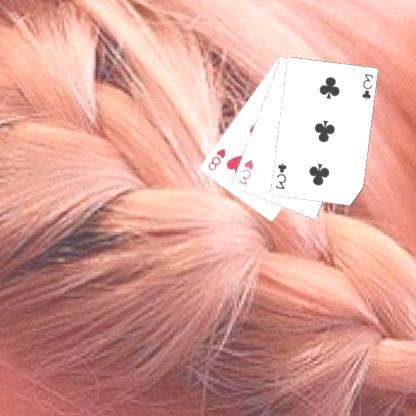3C: (274, 160, 290, 190), (361, 71, 376, 101)
3H: (237, 157, 256, 186)
8H: (207, 145, 229, 172)
